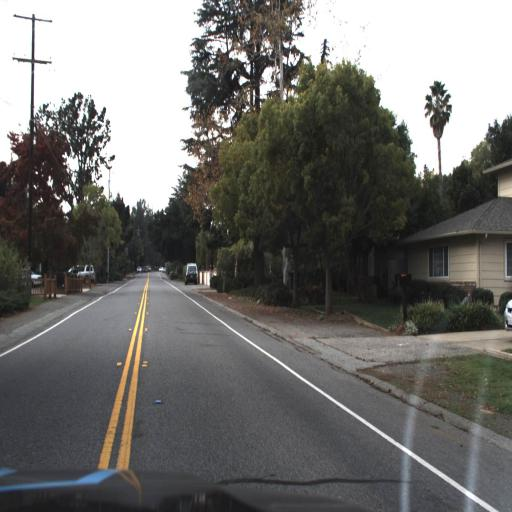car: (61, 256, 106, 293), (183, 261, 201, 287), (25, 265, 45, 285)
